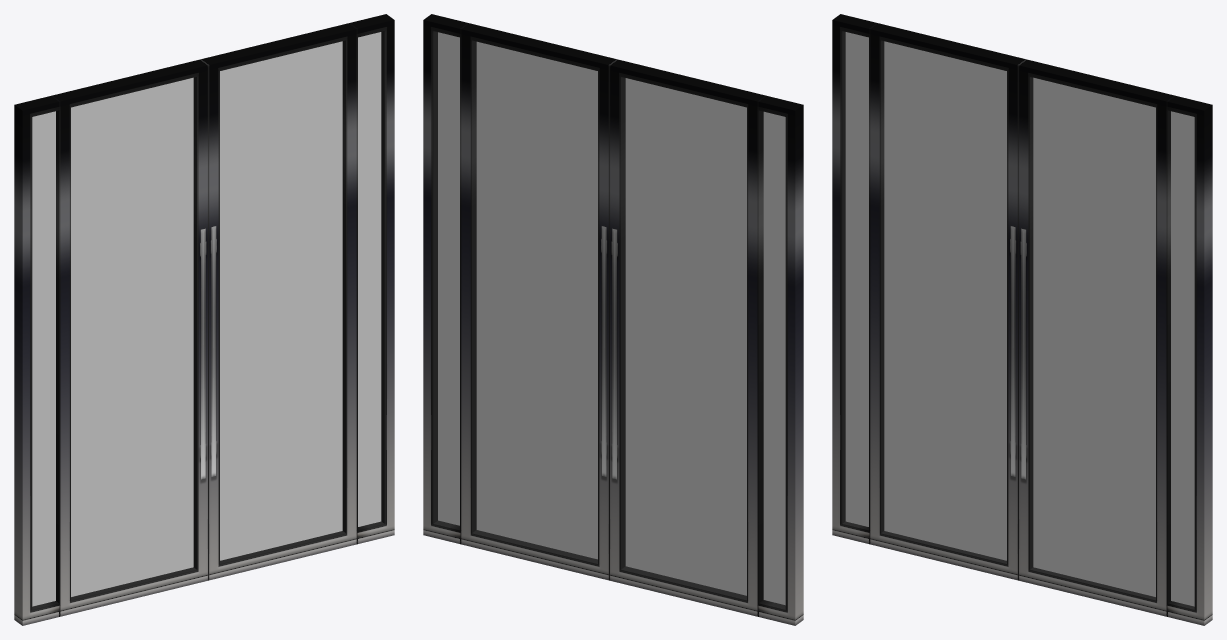
Rendered from Tower_Doors.fbx.
3 renders of one model, left to right at view 1: azimuth 30°, elevation 25°; view 2: azimuth 150°, elevation 25°; view 3: azimuth 330°, elevation 25°, orthographic.
Visible parts, largest first — view 1: Door_002, Door_003; view 2: Door_002, Door_003; view 3: Door_003, Door_002.
Part boxes in pixels (bbox=[...]): Door_002: bbox=[14, 59, 208, 625]; Door_003: bbox=[201, 14, 394, 580]; Door_002: bbox=[609, 59, 803, 625]; Door_003: bbox=[423, 14, 616, 580]; Door_003: bbox=[1018, 59, 1212, 625]; Door_002: bbox=[832, 14, 1025, 580].
Bounding box in the file's own units: 302 × 400 × 11.44.
